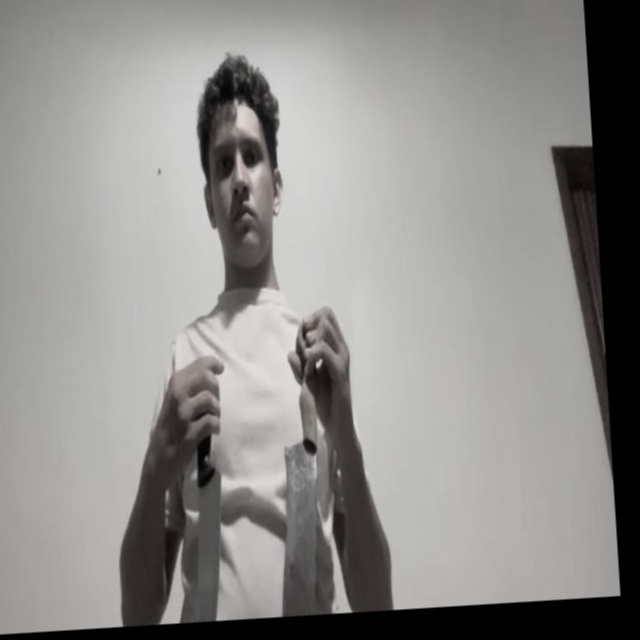Sharp-Object: (271, 442, 327, 617), (190, 467, 231, 622)
